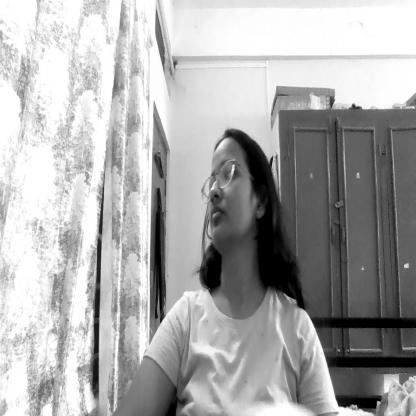Distracted: (205, 138, 267, 264)
